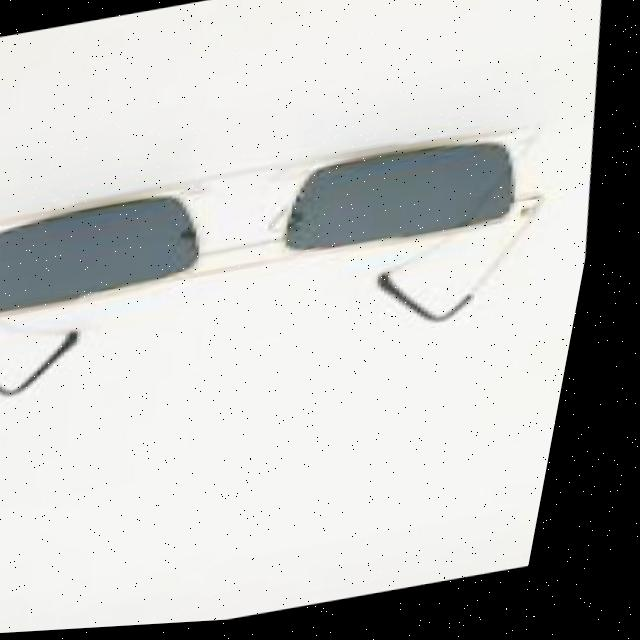gozluk: (0, 87, 583, 354)
